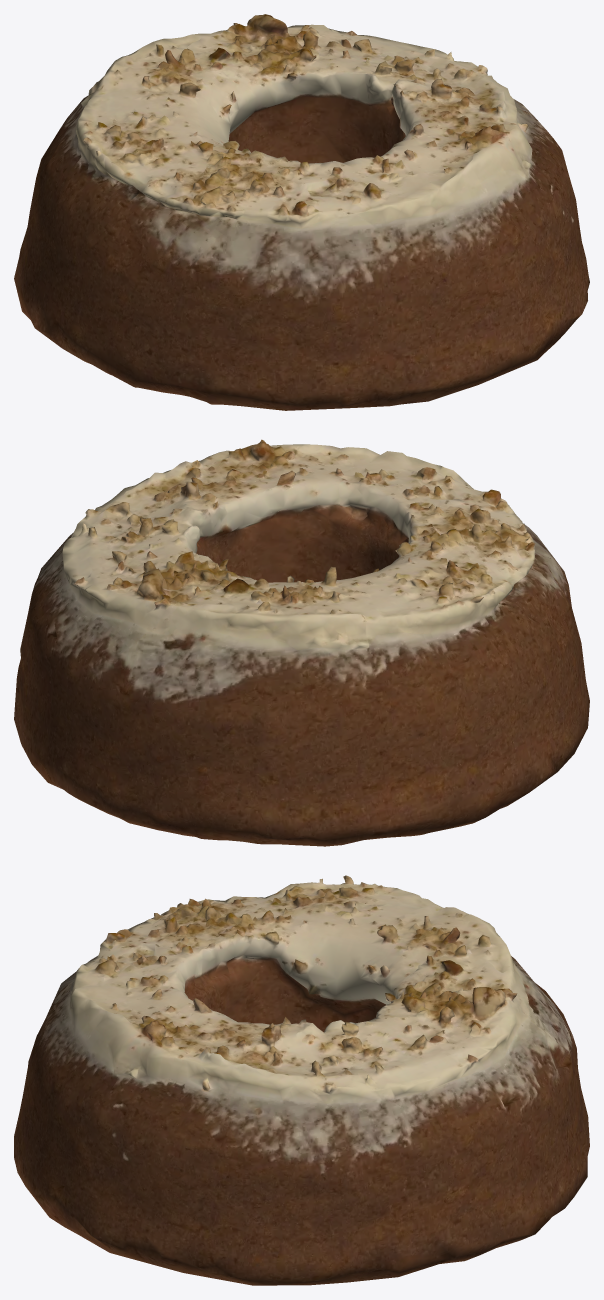
The model's file is carrot_cake.glb.
3 views of the same model, one above another, from view 1: azimuth 30°, elevation 25°; view 2: azimuth 150°, elevation 25°; view 3: azimuth 270°, elevation 25° (orthographic). The views are drawn at different scales.
Visible parts, largest first — view 1: carrot_cake; view 2: carrot_cake; view 3: carrot_cake.
Boxes of the visible parts, x1=… form: carrot_cake: x1=14, y1=14, x2=589, y2=410; carrot_cake: x1=14, y1=439, x2=589, y2=846; carrot_cake: x1=14, y1=875, x2=589, y2=1285.
Bounding box in the file's own units: 0.2254 × 0.0976 × 0.2254.
Materials: 1 (1 with a texture image).
